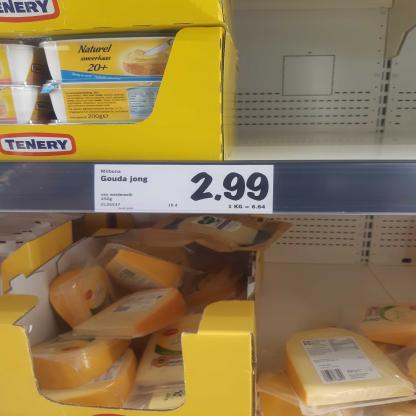prtg: (95, 166, 274, 215)
